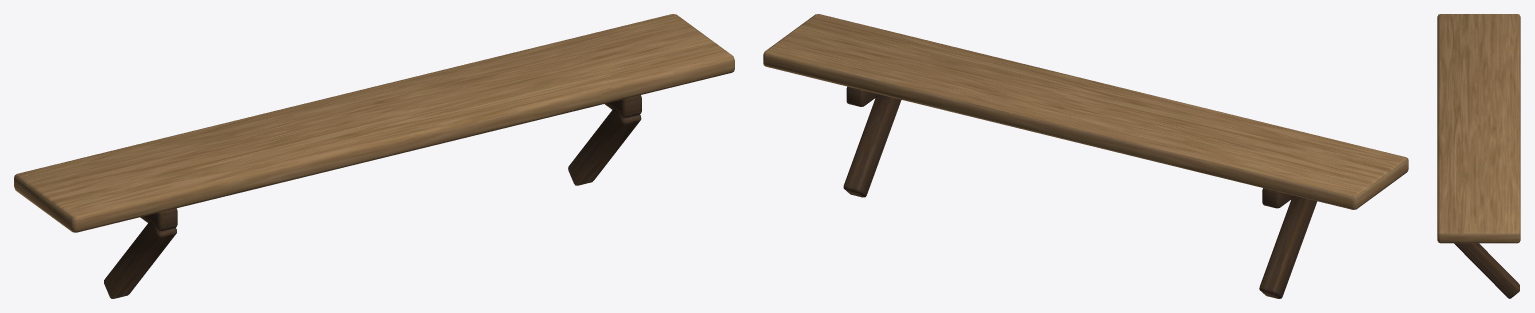
File: home_shelf.glb
3 renders of one model, left to right at view 1: azimuth 30°, elevation 25°; view 2: azimuth 150°, elevation 25°; view 3: azimuth 270°, elevation 25°, orthographic. The views are drawn at different scales.
Visible parts, largest first — view 1: home_shelf; view 2: home_shelf; view 3: home_shelf.
Boxes of the visible parts, x1=… form: home_shelf: x1=14, y1=14, x2=734, y2=298; home_shelf: x1=763, y1=14, x2=1408, y2=298; home_shelf: x1=1437, y1=14, x2=1520, y2=298.
Size of the model in its own units: 2 by 0.4109 by 0.32.
Materials: 1 (1 with a texture image).
